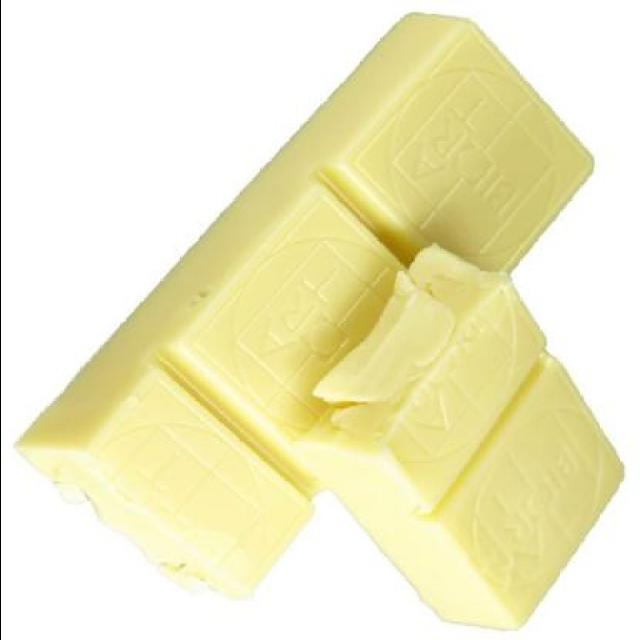Cheese: (11, 6, 603, 608), (288, 238, 630, 636)
